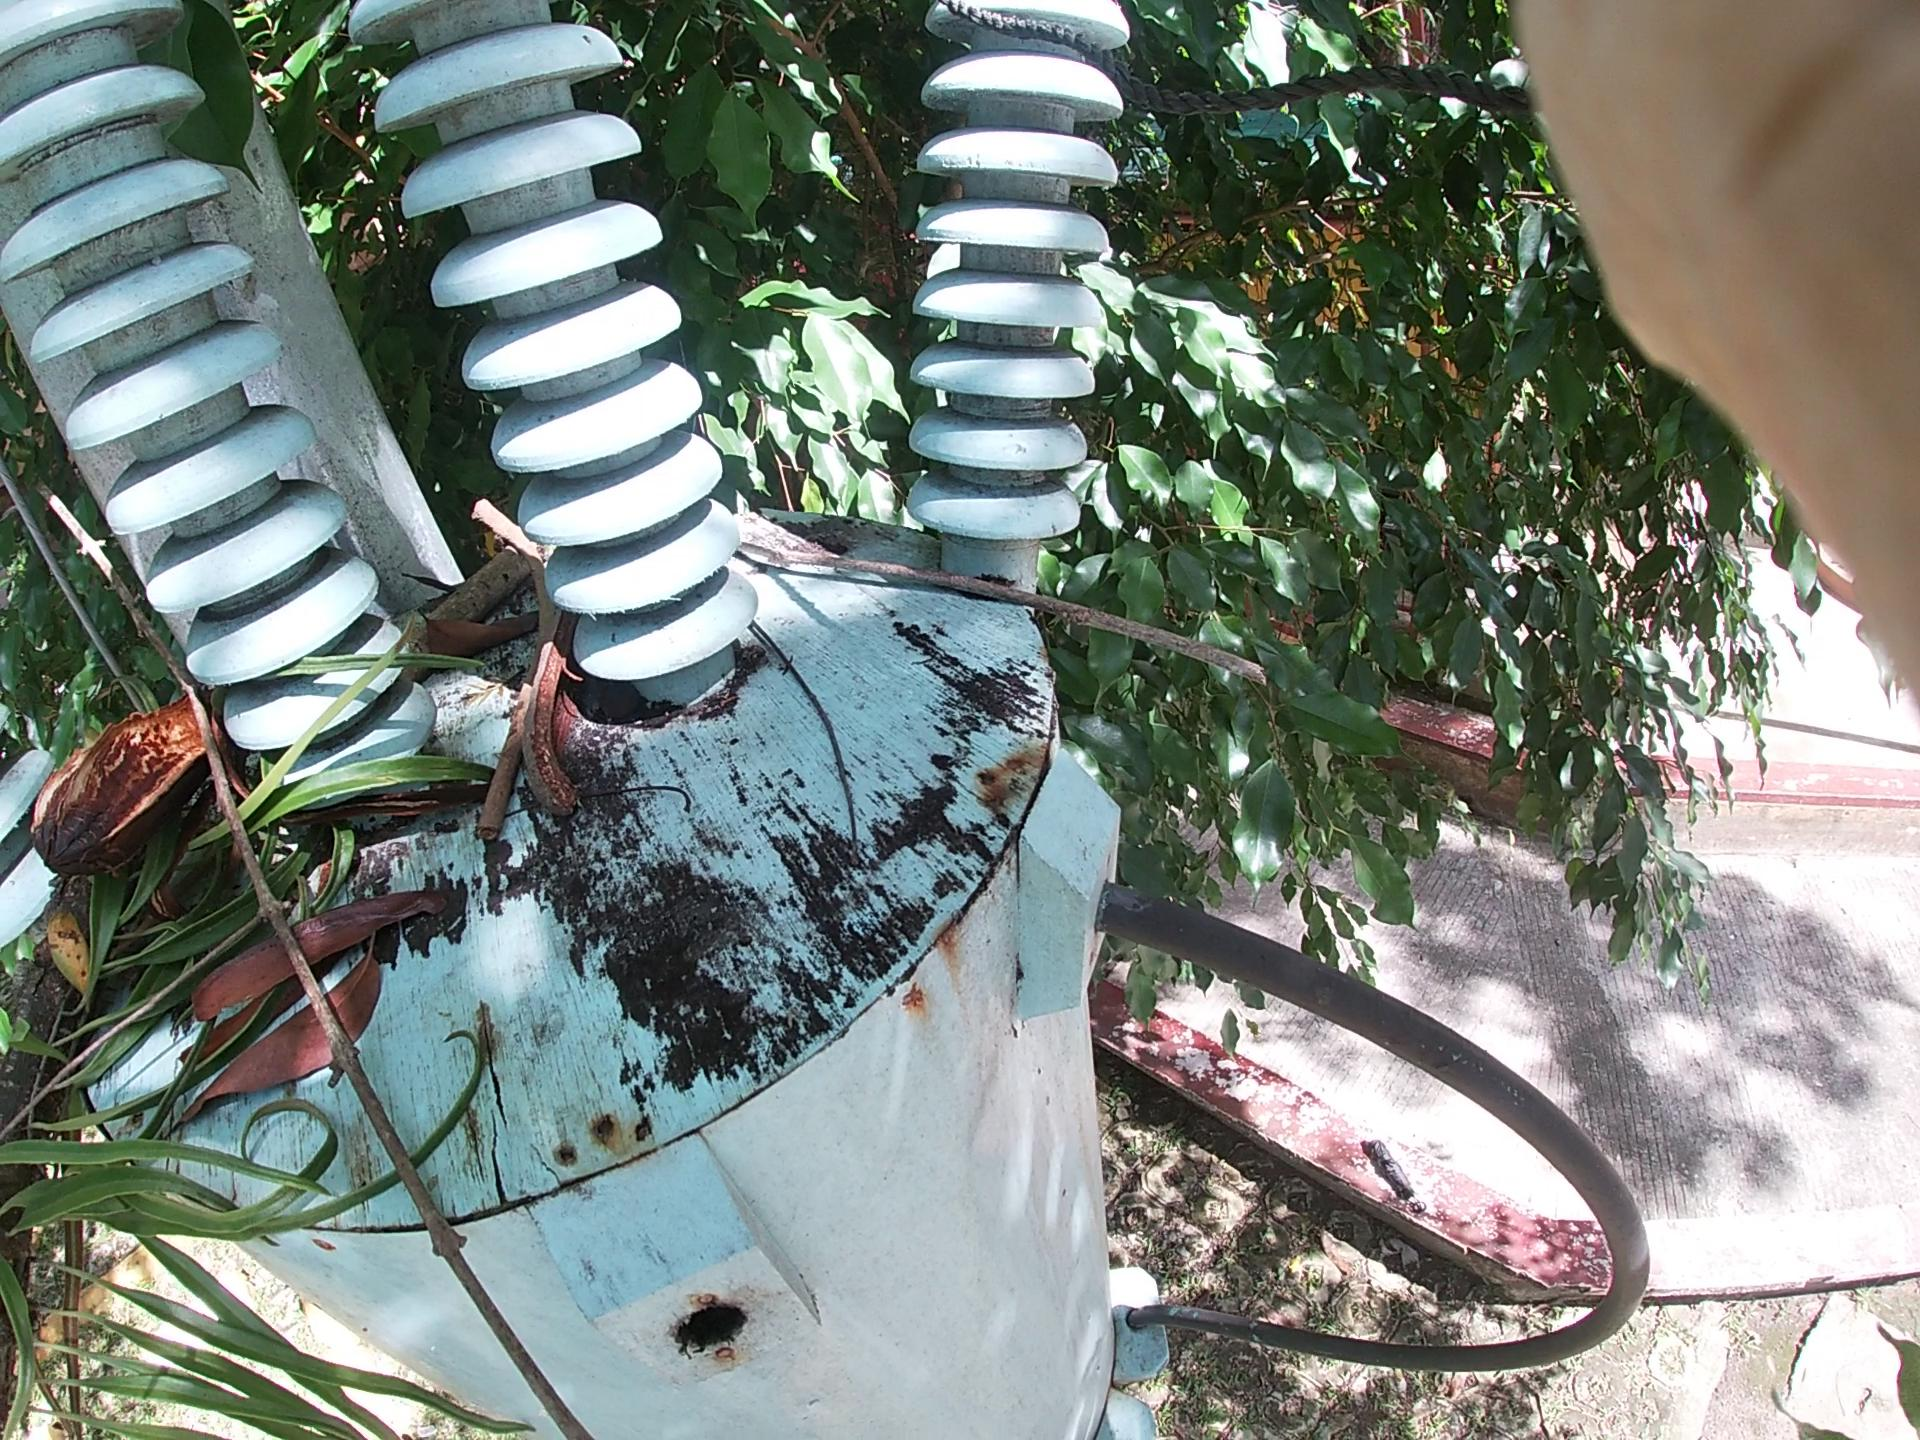branch with leaves: (5, 473, 525, 1407)
leaf: (150, 835, 434, 1134), (373, 611, 578, 774)
mahogany fruit: (51, 659, 194, 917), (490, 573, 623, 843)
tree branch: (85, 469, 299, 1286), (785, 569, 1430, 833), (482, 593, 534, 882)
